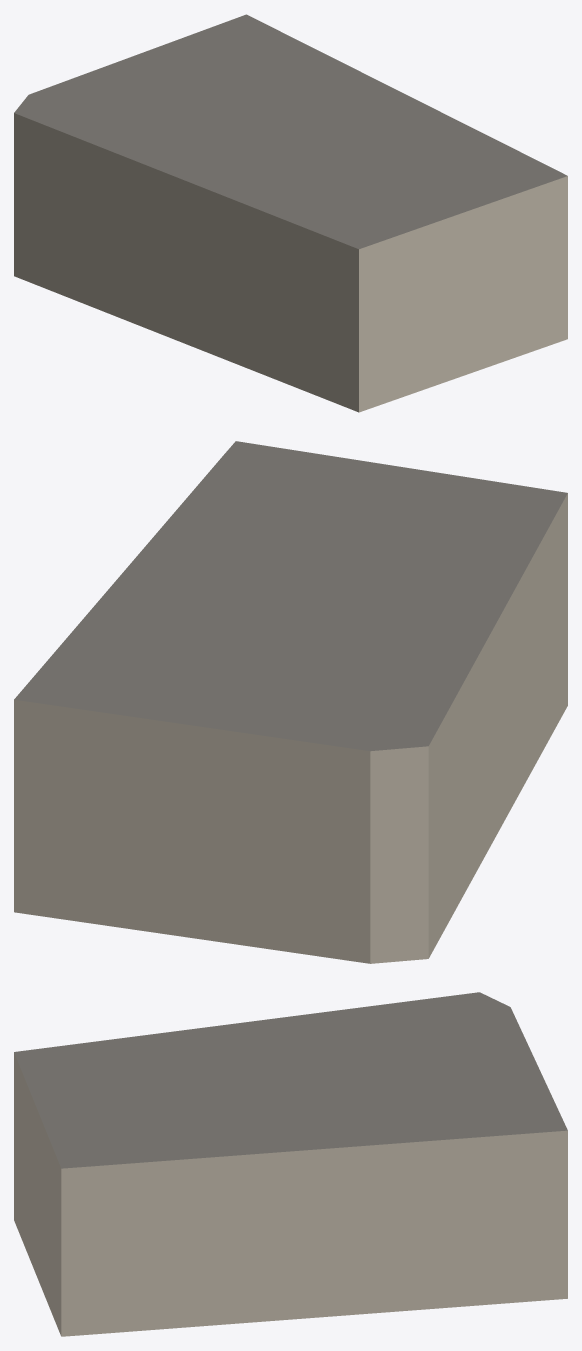
3 views of the same model, one above another, from view 1: azimuth 30°, elevation 25°; view 2: azimuth 150°, elevation 25°; view 3: azimuth 270°, elevation 25° (orthographic). The views are drawn at different scales.
Parts seen in each view (by area): view 1: HP-w1196661448; view 2: HP-w1196661448; view 3: HP-w1196661448.
Boxes of the visible parts, box(x1,y1,x2,y2) form: HP-w1196661448: box(14, 14, 567, 412); HP-w1196661448: box(14, 441, 567, 963); HP-w1196661448: box(14, 992, 567, 1336).
Bounding box in the file's own units: 40.51 × 18 × 53.74.
